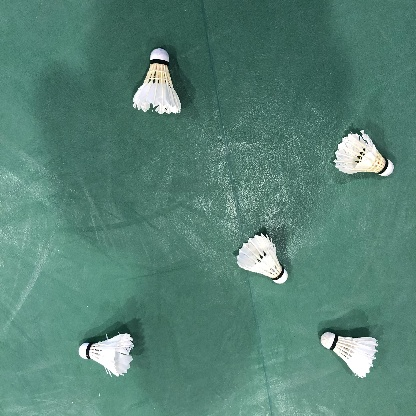ball_single: (133, 48, 181, 115), (333, 130, 394, 176), (321, 332, 379, 378), (237, 233, 288, 284), (79, 333, 134, 377)
